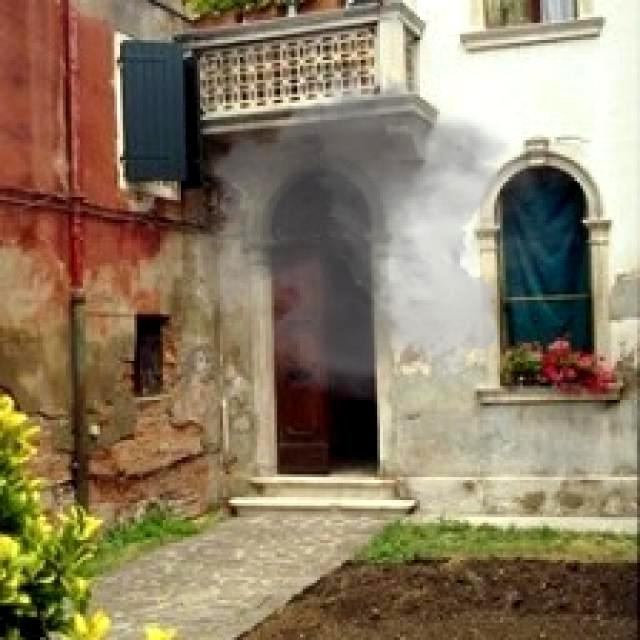no_helmet: (168, 54, 583, 403)
